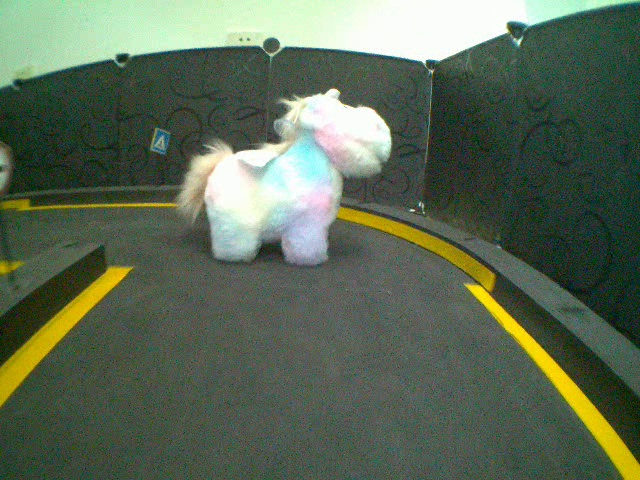unicorn: (171, 89, 390, 272)
